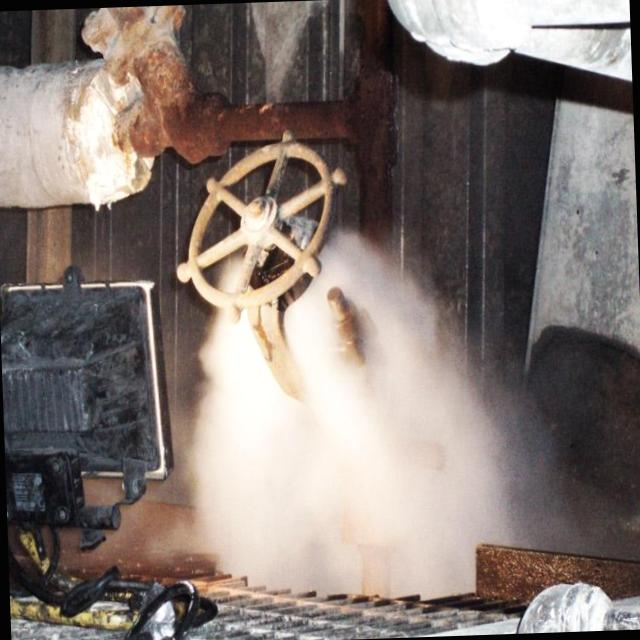smoke: (221, 308, 468, 566)
